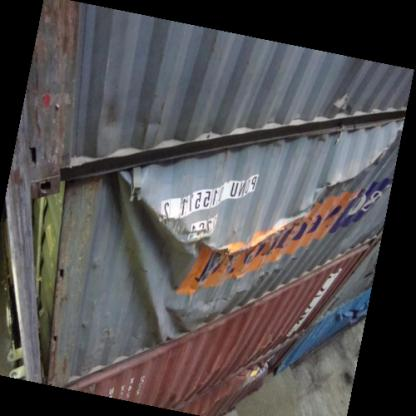Damage: (231, 131, 402, 279), (89, 167, 223, 262), (124, 243, 183, 368)
